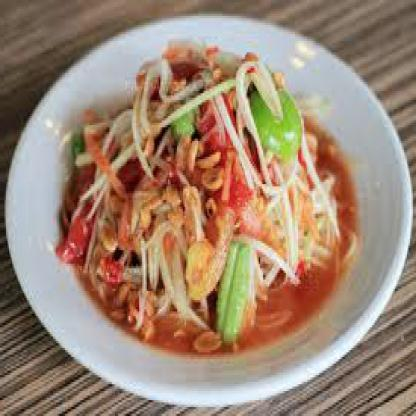Papaya Salad: (33, 41, 366, 405)
